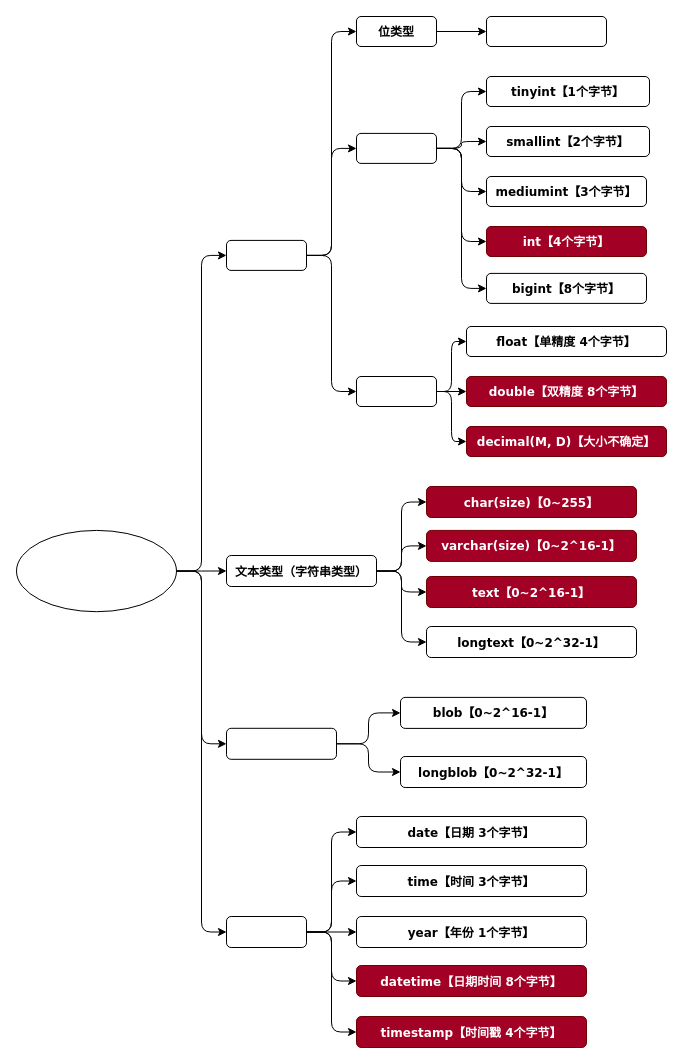
Image size: 683x1064. Some labels were removed from this diagram. Here are the shapes that lost their labels. From the top down, the centre of each, then its label:
At [546,31]: "bit(M)【1-64】".
At [396,147]: "整形".
At [266,254]: "数值类型".
At [396,391]: "小数类型".
At [96,570]: "MySQL 数据类型/列类型".
At [281,743]: "二进制数据类型".
At [266,932]: "日期类型".
